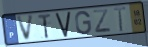G: (75, 10, 93, 36)
T: (36, 13, 52, 40), (113, 5, 128, 33)
V: (16, 13, 35, 42), (55, 10, 72, 39)
Z: (92, 8, 113, 34)
